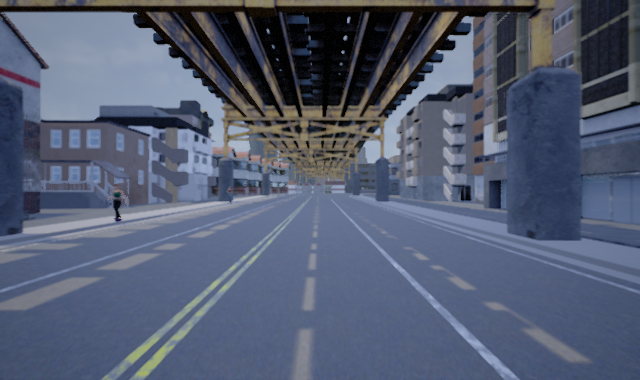pedestrian: (106, 182, 129, 221), (225, 185, 234, 202)
